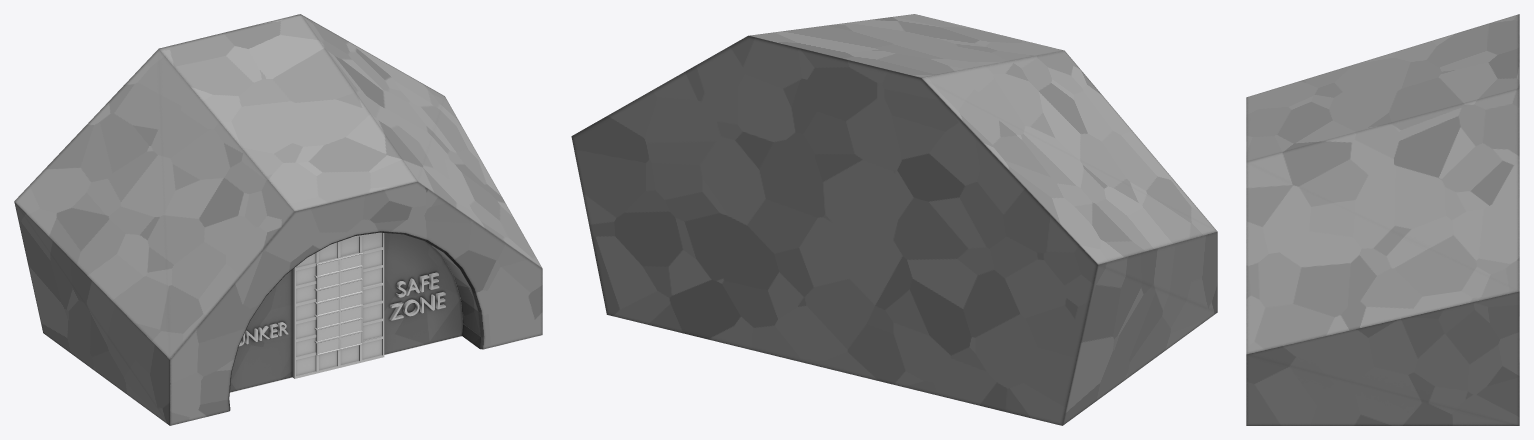
The model's file is BUNKER.fbx.
The picture shows the model from 3 angles, left to right: view 1: azimuth 30°, elevation 25°; view 2: azimuth 150°, elevation 25°; view 3: azimuth 270°, elevation 25°; orthographic projection. The views are drawn at different scales.
Parts seen in each view (by area): view 1: BUNKER_Baked; view 2: BUNKER_Baked; view 3: BUNKER_Baked.
Boxes of the visible parts, box(x1,y1,x2,y2) form: BUNKER_Baked: box(14, 14, 542, 425); BUNKER_Baked: box(571, 14, 1217, 425); BUNKER_Baked: box(1246, 14, 1519, 425).
Size of the model in its own units: 1361 by 774 by 694.
1 material, 1 textured.
